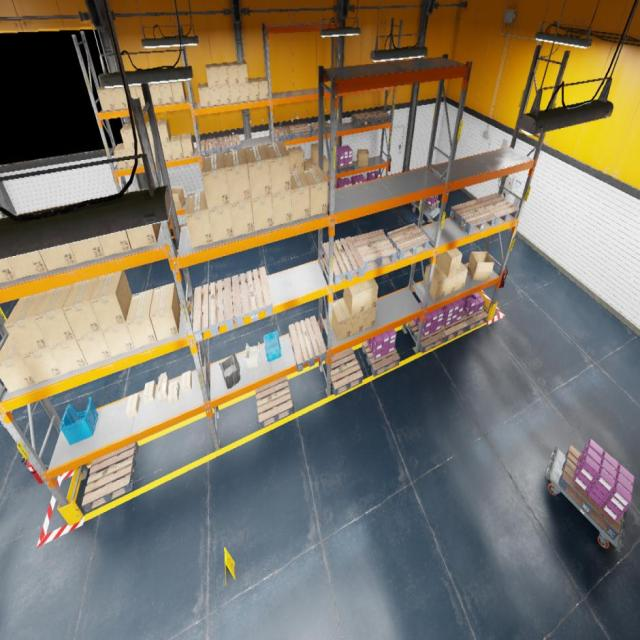box: (4, 291, 48, 356), (8, 208, 48, 278), (34, 284, 76, 346), (39, 203, 77, 271), (90, 270, 132, 330), (62, 277, 101, 338), (69, 197, 105, 263), (98, 192, 131, 256), (0, 335, 37, 392), (126, 188, 160, 249), (101, 297, 135, 357), (126, 288, 157, 348), (150, 283, 180, 341), (185, 190, 213, 248), (202, 152, 230, 208), (224, 148, 251, 204), (245, 145, 272, 199), (22, 347, 62, 383), (264, 142, 291, 194), (49, 338, 88, 374), (76, 330, 112, 365), (0, 214, 18, 283), (303, 167, 327, 216), (290, 170, 310, 221), (208, 205, 234, 242), (423, 264, 448, 300), (230, 200, 254, 237), (251, 194, 274, 232), (332, 298, 352, 340), (343, 282, 366, 316), (468, 252, 494, 280), (436, 263, 458, 295), (344, 299, 363, 336), (437, 248, 462, 276), (272, 191, 292, 226), (361, 278, 378, 311), (110, 86, 128, 110), (97, 87, 115, 111), (454, 262, 468, 291), (120, 123, 135, 149), (113, 144, 129, 168), (156, 118, 171, 143), (156, 372, 169, 400), (132, 121, 146, 147), (122, 86, 138, 108), (126, 393, 140, 418), (180, 133, 194, 157), (171, 81, 186, 103), (363, 306, 376, 331), (143, 380, 156, 404), (170, 134, 183, 158), (216, 62, 229, 86), (198, 83, 211, 107), (160, 82, 174, 104), (149, 83, 163, 105), (125, 148, 141, 167), (161, 136, 173, 161), (168, 380, 180, 404), (171, 188, 185, 208), (236, 61, 248, 84), (226, 62, 238, 85), (206, 64, 218, 86), (218, 86, 231, 105), (208, 86, 221, 105), (257, 77, 268, 99), (146, 120, 156, 144), (182, 370, 192, 393), (248, 78, 258, 101), (294, 146, 304, 168), (135, 85, 145, 106), (229, 85, 240, 104), (239, 83, 250, 102), (287, 148, 296, 169), (357, 150, 368, 167), (310, 144, 318, 163), (323, 156, 329, 175), (304, 158, 314, 169), (150, 146, 156, 162), (138, 147, 143, 165), (296, 167, 304, 171), (290, 169, 296, 172), (314, 164, 318, 168)
pallets: (558, 446, 622, 540), (82, 441, 138, 512), (193, 278, 235, 342), (232, 266, 273, 327), (288, 315, 326, 372), (255, 376, 293, 428), (324, 236, 364, 285), (325, 347, 363, 396), (352, 229, 396, 271), (450, 200, 496, 234), (387, 223, 429, 260), (475, 193, 519, 225), (362, 341, 400, 377), (408, 320, 445, 353), (441, 317, 467, 341), (462, 309, 488, 331), (201, 138, 221, 157), (289, 122, 311, 139), (221, 134, 241, 152), (352, 112, 374, 128), (415, 201, 439, 214), (368, 110, 390, 124), (310, 121, 330, 136), (274, 126, 292, 142), (337, 162, 355, 172), (327, 204, 329, 210)
